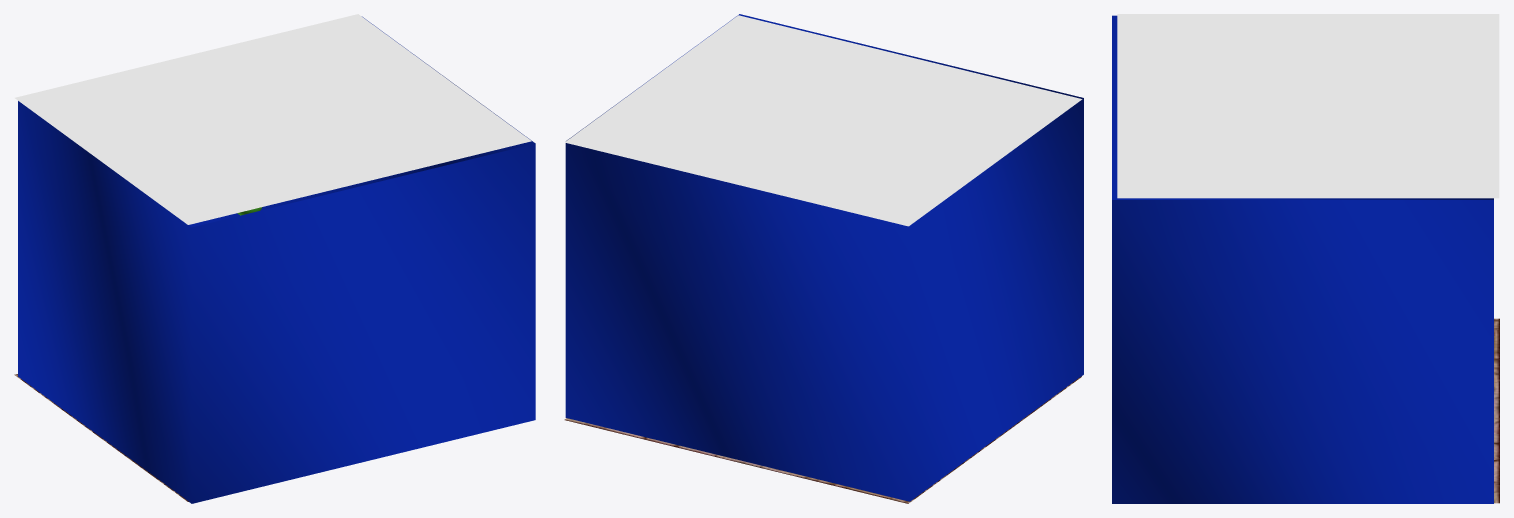
3 views of the same model, side by side, from view 1: azimuth 30°, elevation 25°; view 2: azimuth 150°, elevation 25°; view 3: azimuth 270°, elevation 25° (orthographic). The views are drawn at different scales.
Parts seen in each view (by area): view 1: Murs, Plafond; view 2: Murs, Plafond, Sol; view 3: Murs, Plafond, Sol.
Boxes of the visible parts, <box> form: Murs: <box>18,16,535,503</box>; Plafond: <box>15,14,531,224</box>; Murs: <box>565,14,1083,501</box>; Plafond: <box>565,15,1082,226</box>; Sol: <box>564,376,1081,503</box>; Murs: <box>1112,15,1493,503</box>; Plafond: <box>1117,14,1499,198</box>; Sol: <box>1494,318,1499,503</box>.
Size of the model in its own units: 8.11 by 6.23 by 7.18.
7 materials, 2 textured.
